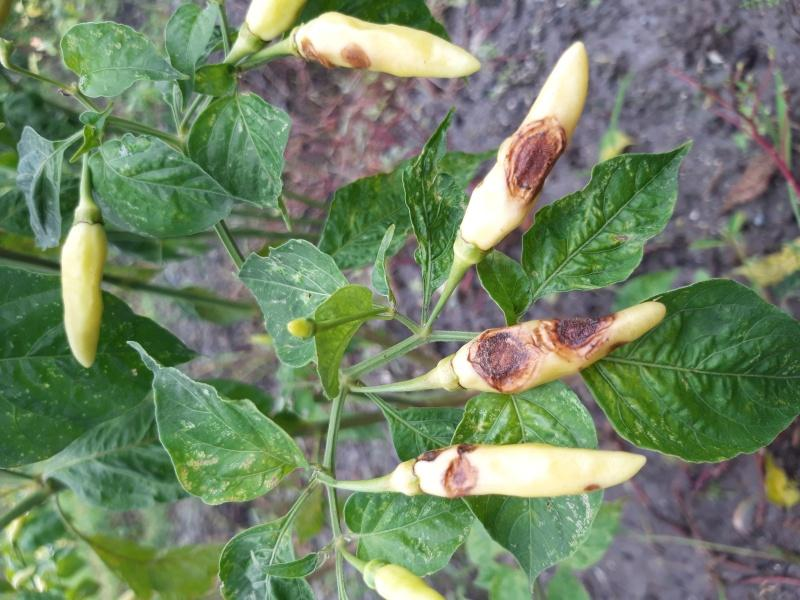antraknosa: (457, 40, 591, 252), (452, 303, 667, 394), (288, 9, 485, 87), (411, 440, 651, 498)
cabai_normal: (87, 128, 245, 243), (55, 215, 110, 371)
